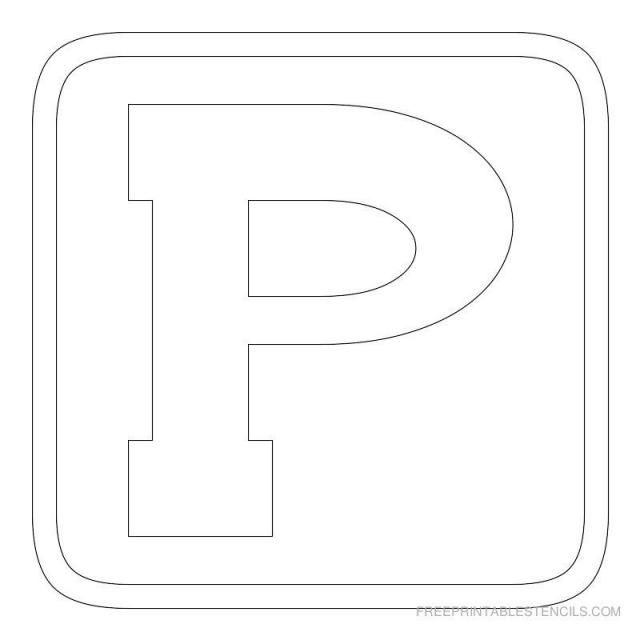P: (103, 78, 554, 568)
